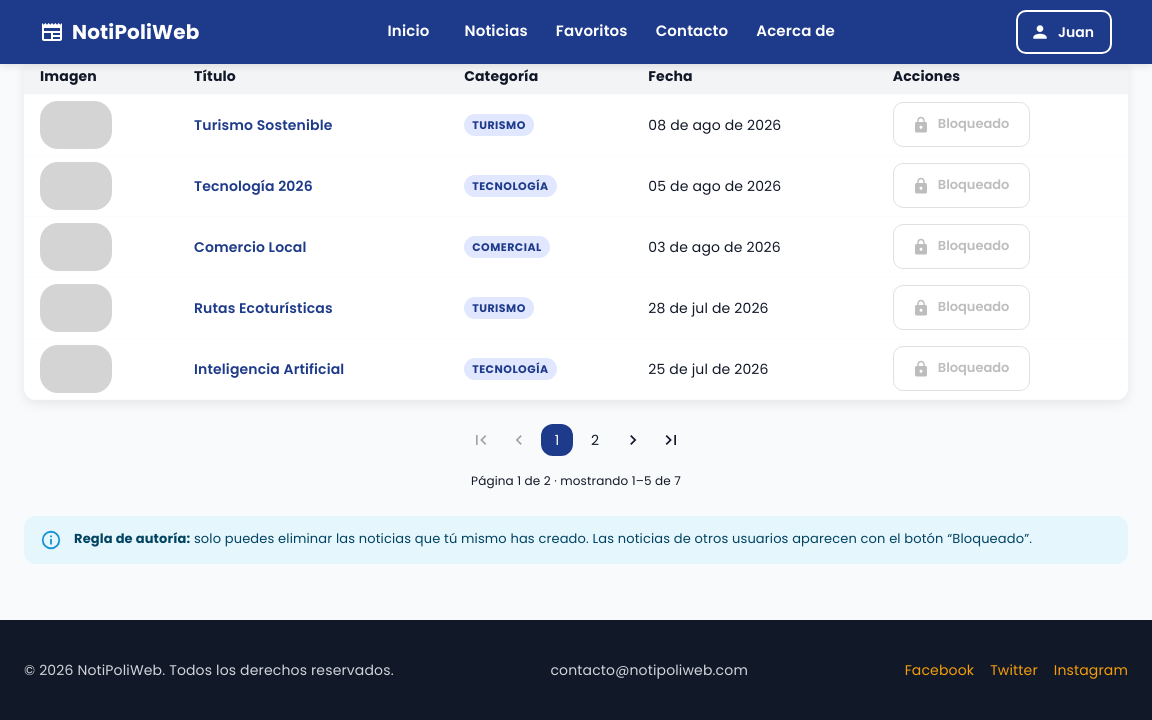
Scenario: Paginación › pagina el listado de comunidad del CRUD de 5 en 5
This screenshot has width=1152, height=720.
(page scrolled)
Expected: the number of buttons "Bloqueado" is 5, [893,102,1030,147]; [893,163,1030,208]; [893,224,1030,269]; [893,285,1030,330]; [893,346,1030,391]
Click the button named "Ir a la página 2": (595, 440) [579,424,611,456]
(page scrolled)
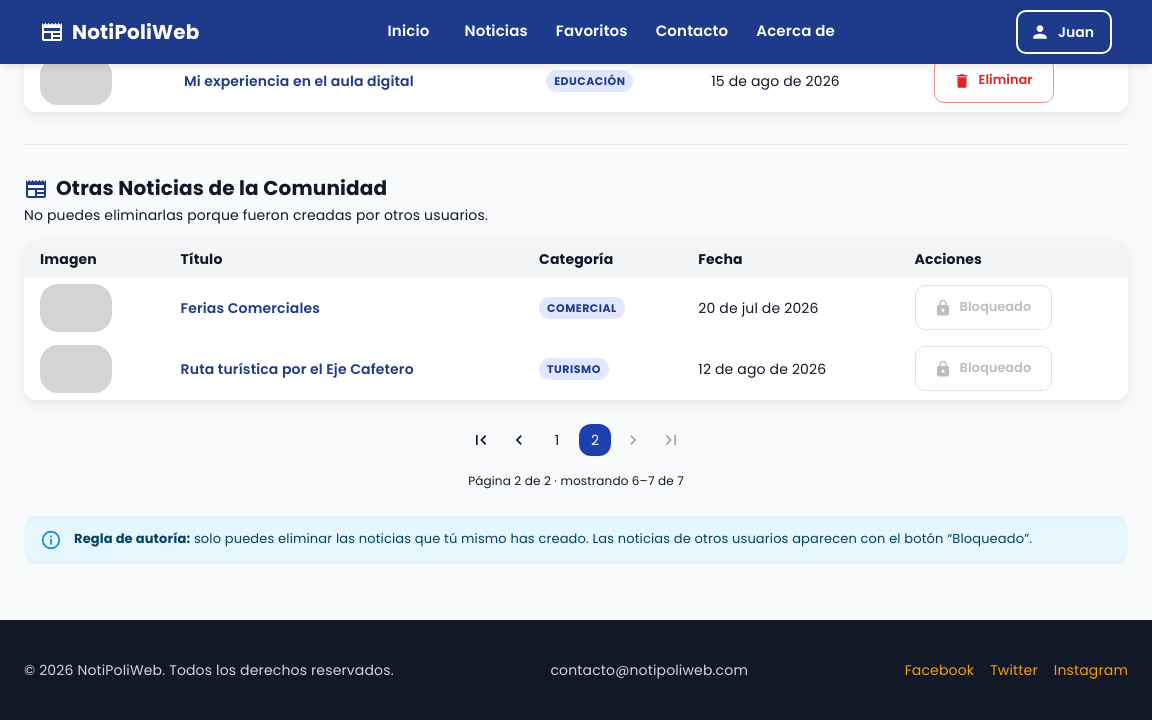
Expected: the number of buttons "Bloqueado" is 2, [915,285,1052,330]; [915,346,1052,391]
